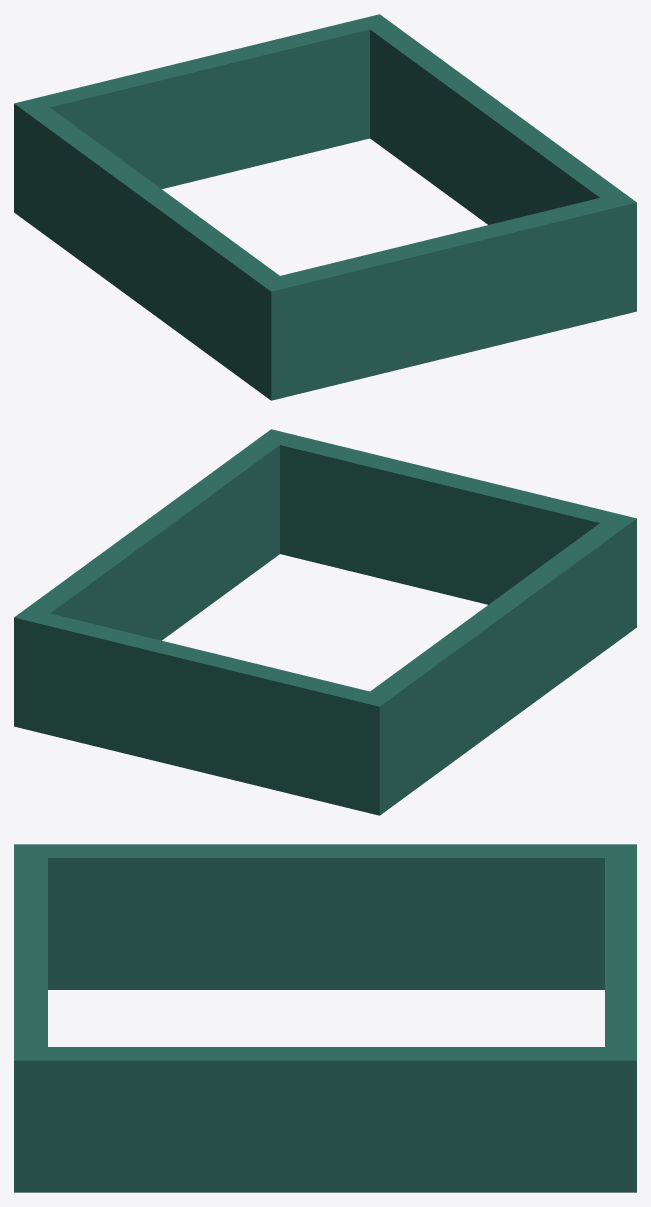
The model's file is lvl.glb.
3 views of the same model, one above another, from view 1: azimuth 30°, elevation 25°; view 2: azimuth 150°, elevation 25°; view 3: azimuth 270°, elevation 25° (orthographic). The views are drawn at different scales.
Visible parts, largest first — view 1: tri1; view 2: tri1; view 3: tri1.
Part boxes in pixels (x1,y1,x2,y2): tri1: (14, 14, 636, 400); tri1: (14, 429, 636, 815); tri1: (14, 844, 636, 1192).
Size of the model in its own units: 32.06 by 9.13 by 39.05.
